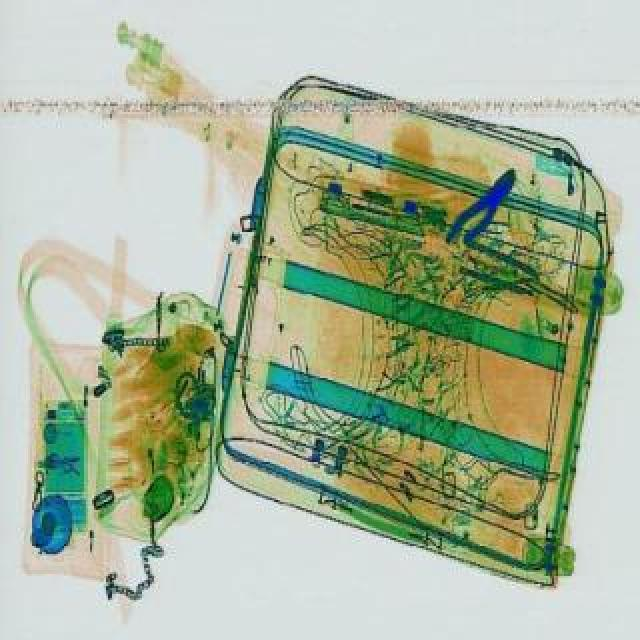wrench: (440, 162, 528, 256)
